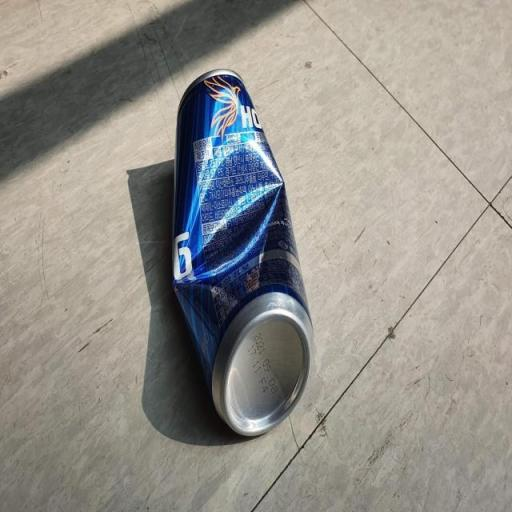metal: (158, 37, 324, 459)
